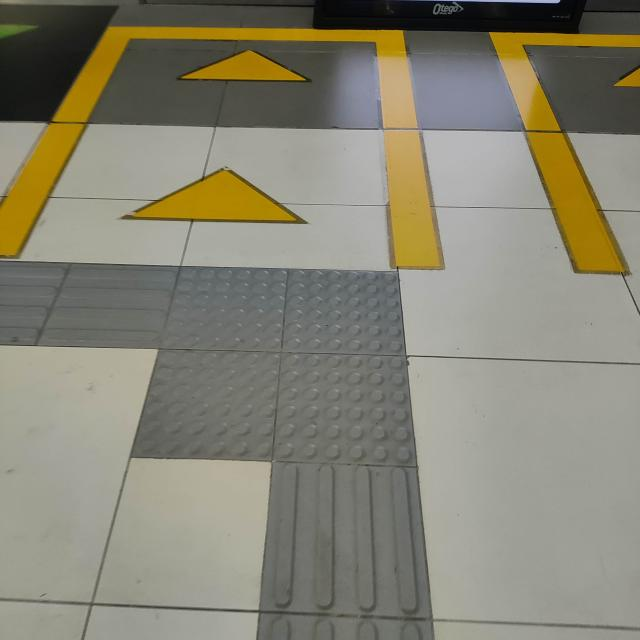kiri: (0, 201, 516, 591)
